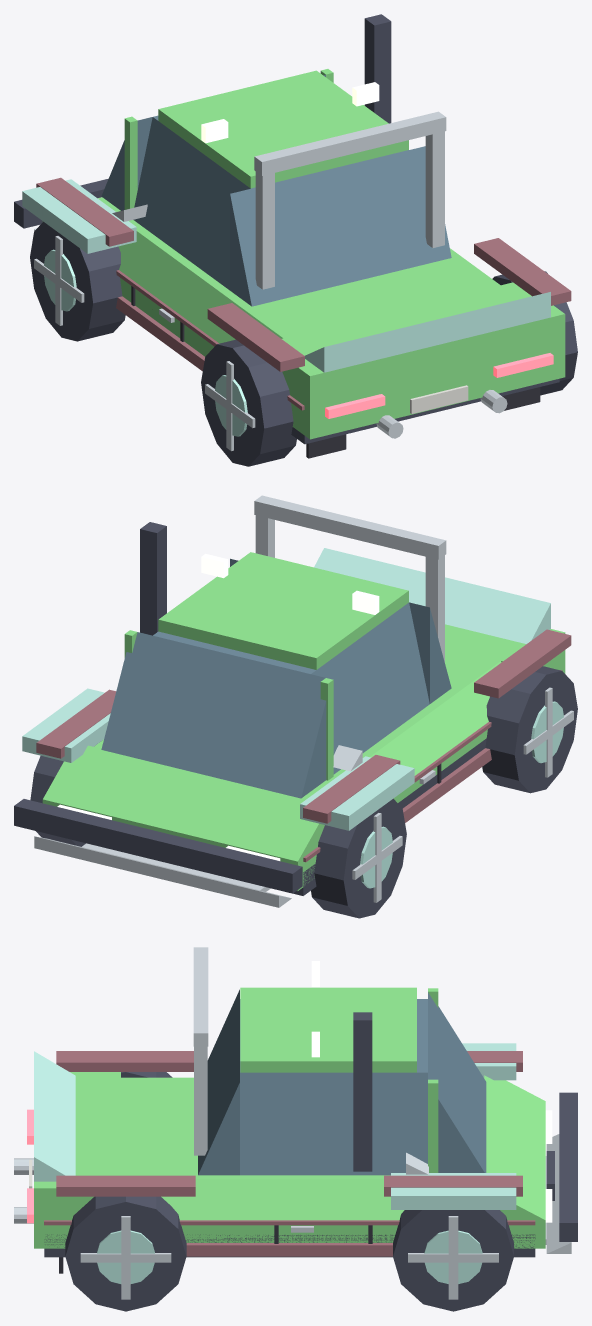
The model's file is sandbar_scout.glb.
3 views of the same model, one above another, from view 1: azimuth 30°, elevation 25°; view 2: azimuth 150°, elevation 25°; view 3: azimuth 270°, elevation 25° (orthographic). The views are drawn at different scales.
Parts seen in each view (by area): view 1: RearWindow.166, Tail.066, Roof.266, CabinSideL.063, BodyUpper.063, Body.266, Wheel_RL.226, Ducktail.049, Wheel_FL.226, ShoulderL.063, RollBar.059, Fender-1.059 (+21 smaller); view 2: Windshield.166, Roof.266, Nose.063, CabinSideL.063, BashBar.059, Ducktail.049, Wheel_RL.226, Wheel_FL.226, ShoulderL.063, RollBar.059, Bumper.262, Fender-1.059 (+27 smaller); view 3: CabinSideR.063, Roof.266, ShoulderR.063, Wheel_RR.226, BodyUpper.063, Wheel_FR.226, Windshield.166, Nose.063, Tail.066, Body.266, RearWindow.166, Ducktail.049 (+22 smaller).
Part boxes in pixels (x1,y1,x2,y2): RearWindow.166: [230, 146, 451, 306]; Tail.066: [282, 282, 565, 409]; Roof.266: [158, 70, 408, 188]; CabinSideL.063: [133, 117, 250, 290]; BodyUpper.063: [98, 197, 500, 338]; Body.266: [42, 221, 565, 439]; Wheel_RL.226: [201, 339, 296, 466]; Ducktail.049: [305, 292, 550, 372]; Wheel_FL.226: [30, 221, 125, 341]; ShoulderL.063: [118, 231, 282, 343]; RollBar.059: [254, 111, 446, 175]; Fender-1.059: [22, 179, 136, 253]; Windshield.166: [101, 632, 326, 798]; Roof.266: [158, 552, 408, 669]; Nose.063: [43, 745, 324, 861]; CabinSideL.063: [311, 602, 429, 774]; BashBar.059: [14, 799, 302, 893]; Ducktail.049: [314, 548, 550, 643]; Wheel_RL.226: [482, 666, 577, 793]; Wheel_FL.226: [311, 798, 406, 918]; ShoulderL.063: [369, 661, 501, 775]; RollBar.059: [254, 495, 446, 559]; Bumper.262: [34, 836, 291, 907]; Fender-1.059: [300, 756, 414, 830]; CabinSideR.063: [240, 1072, 427, 1175]; Roof.266: [240, 987, 416, 1072]; ShoulderR.063: [161, 1179, 404, 1220]; Wheel_RR.226: [65, 1196, 186, 1311]; BodyUpper.063: [121, 1077, 390, 1179]; Wheel_FR.226: [393, 1210, 513, 1311]; Windshield.166: [428, 992, 486, 1172]; Nose.063: [484, 1075, 545, 1220]; Tail.066: [34, 1072, 120, 1220]; Body.266: [34, 1220, 545, 1248]; RearWindow.166: [198, 989, 239, 1175]; Ducktail.049: [34, 1051, 75, 1181].
Bounding box in the file's own units: 3.46 × 2.9 × 5.4.
